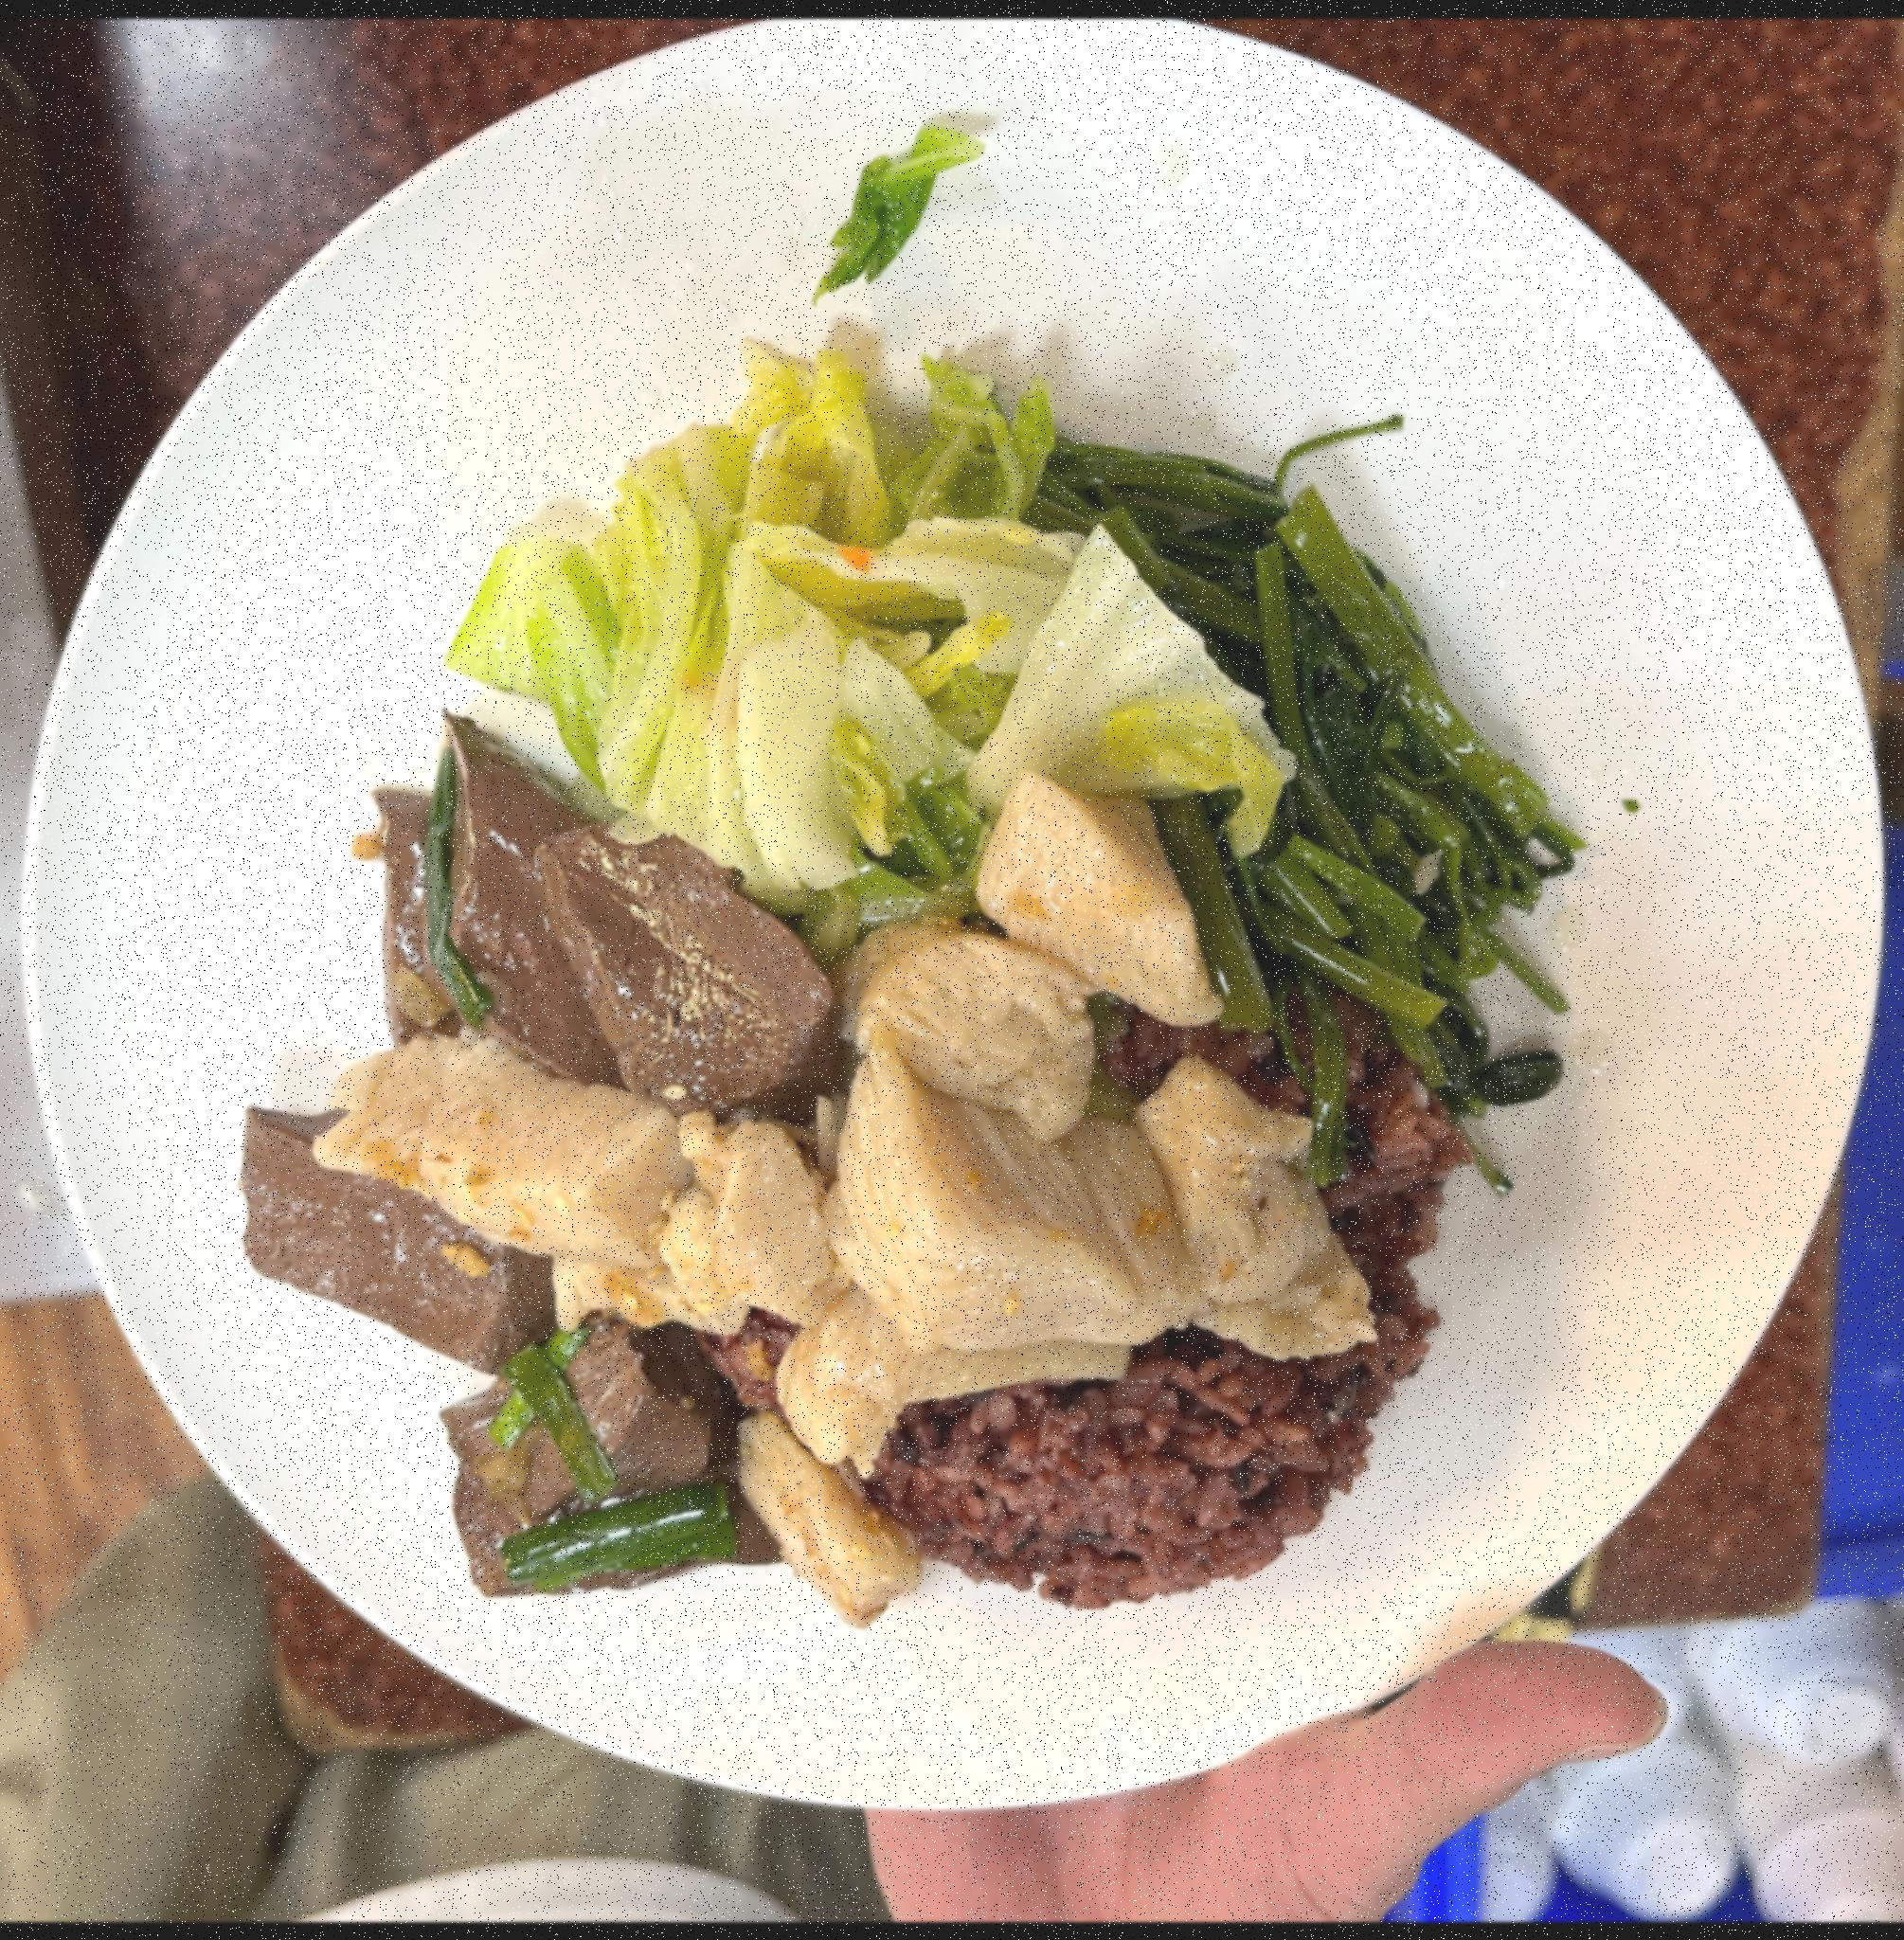plate: (16, 26, 1904, 1825)
purple rice: (772, 913, 1407, 1619)
scallion chicken: (364, 788, 1377, 1457)
side dish: (244, 756, 813, 1644), (488, 328, 1240, 922), (1043, 385, 1527, 1105)
